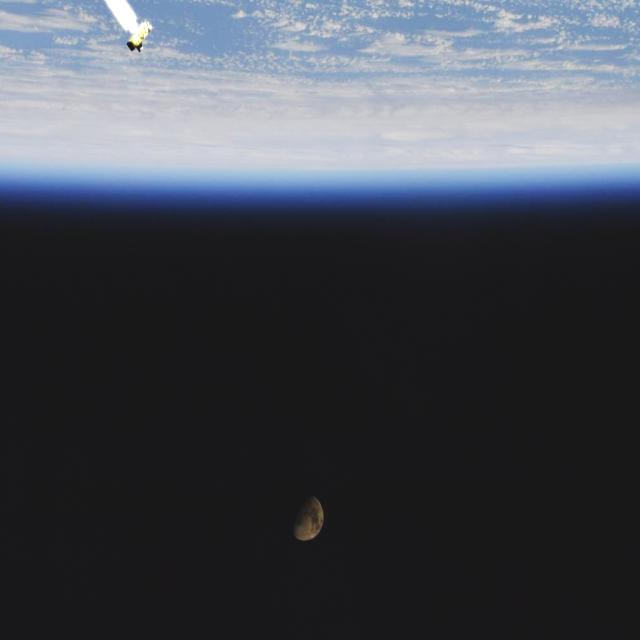satellite: (81, 0, 159, 56)
